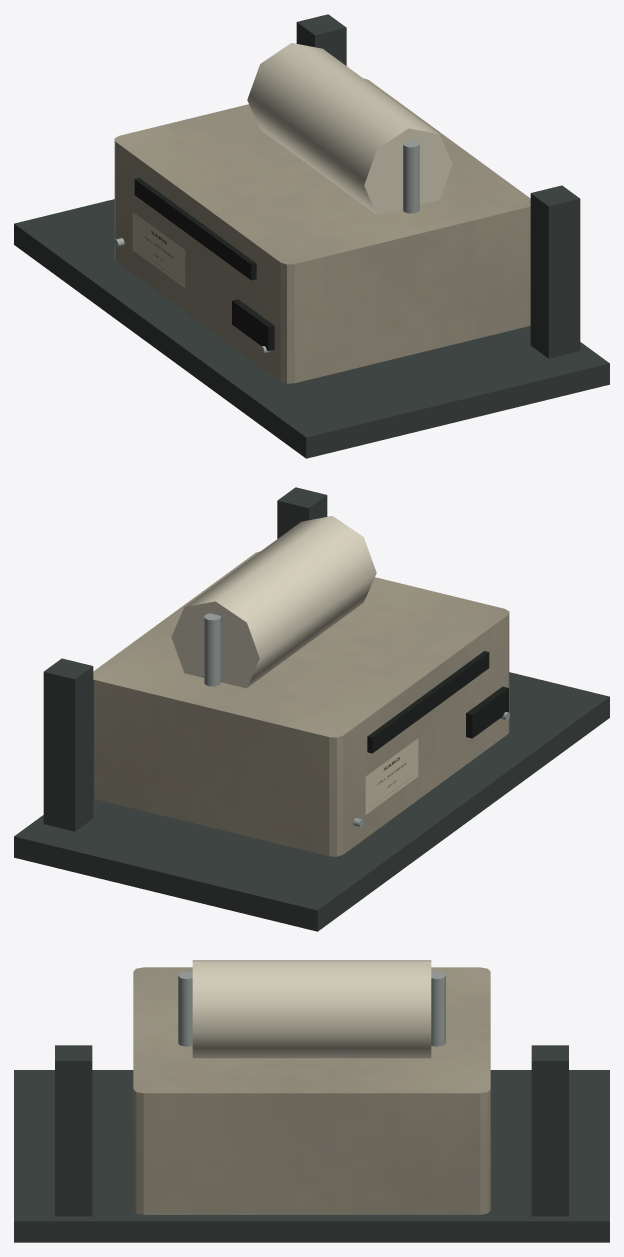
Rendered from SM_ArchiveProps_CallRecorder_LOD1.glb.
The picture shows the model from 3 angles, top to bottom: view 1: azimuth 30°, elevation 25°; view 2: azimuth 150°, elevation 25°; view 3: azimuth 270°, elevation 25°; orthographic projection.
Parts seen in each view (by area): view 1: SM_ArchiveProps_CallRecorder_LOD1; view 2: SM_ArchiveProps_CallRecorder_LOD1; view 3: SM_ArchiveProps_CallRecorder_LOD1.
Part boxes in pixels (bbox=[...]): SM_ArchiveProps_CallRecorder_LOD1: bbox=[14, 14, 609, 458]; SM_ArchiveProps_CallRecorder_LOD1: bbox=[14, 487, 609, 931]; SM_ArchiveProps_CallRecorder_LOD1: bbox=[14, 960, 609, 1242].
Bounding box in the file's own units: 0.24 × 0.166 × 0.4.
6 materials, 2 textured.
